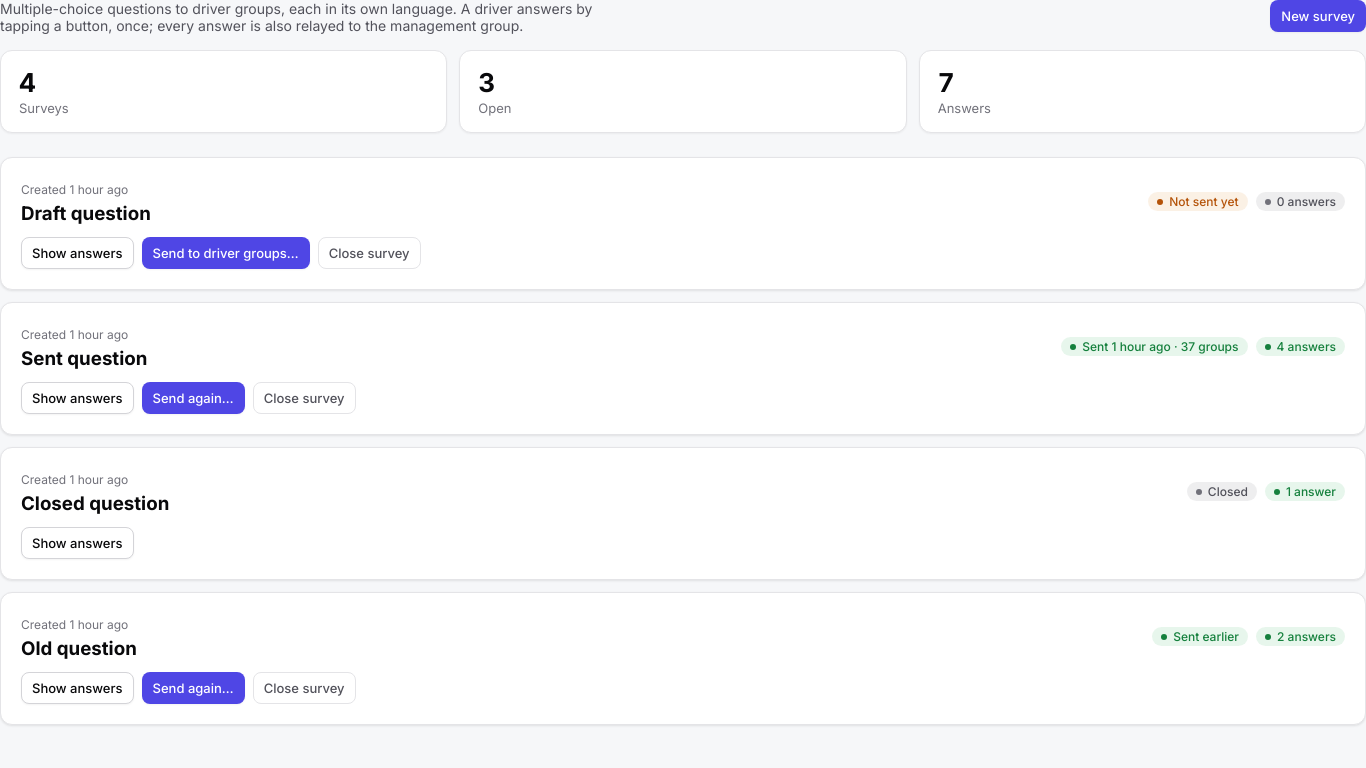
Scenario: a send that reached nobody is an error, and a long list of unreachable groups is cut short
The width and height of the screenshot is (1366, 768).
Expected: the heading "Draft question" is shown, [21,202,151,225]
Click the button "Send to driver groups…" at (226,253), box [142,237,310,269]
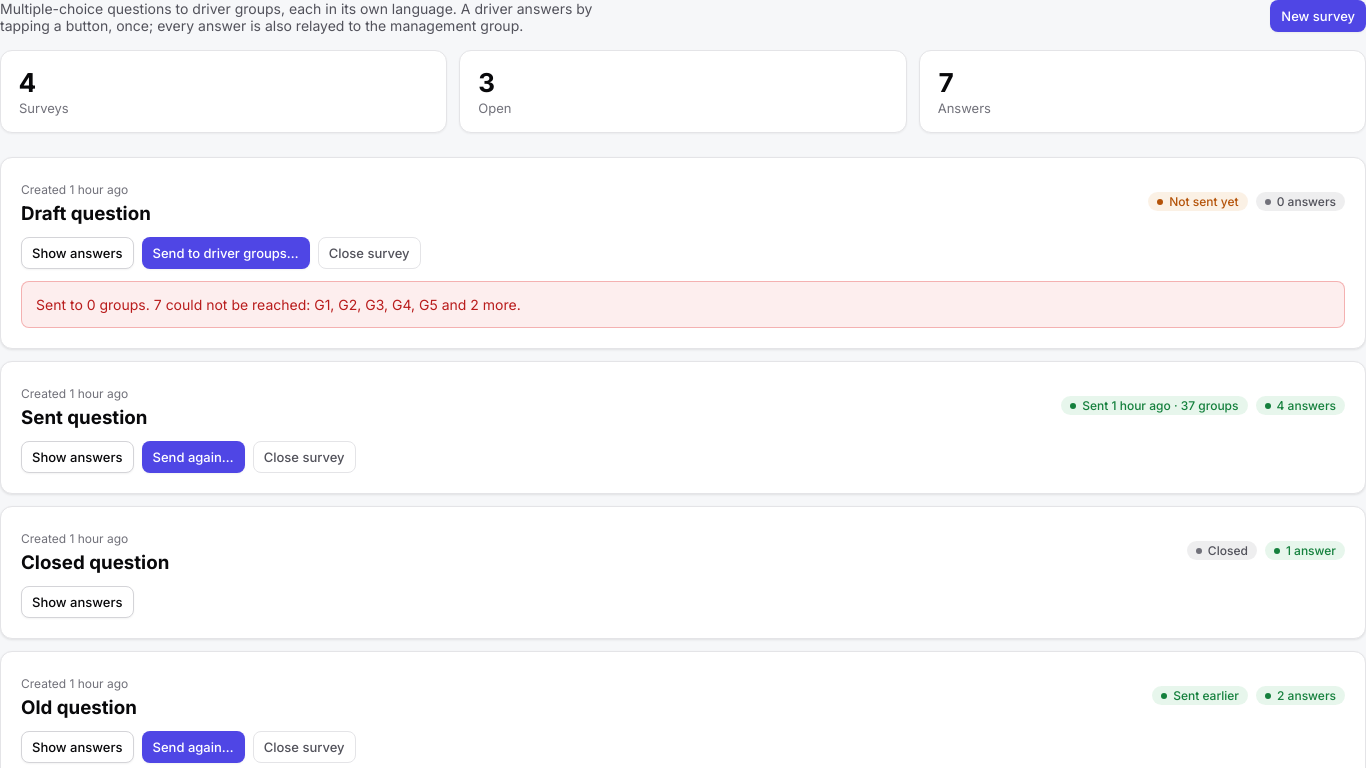
Expected: the message reads "Sent to 0 groups. 7 could not be reached: G1, G2, G3, G4, G5 and 2 more.", [21,281,1345,328]
